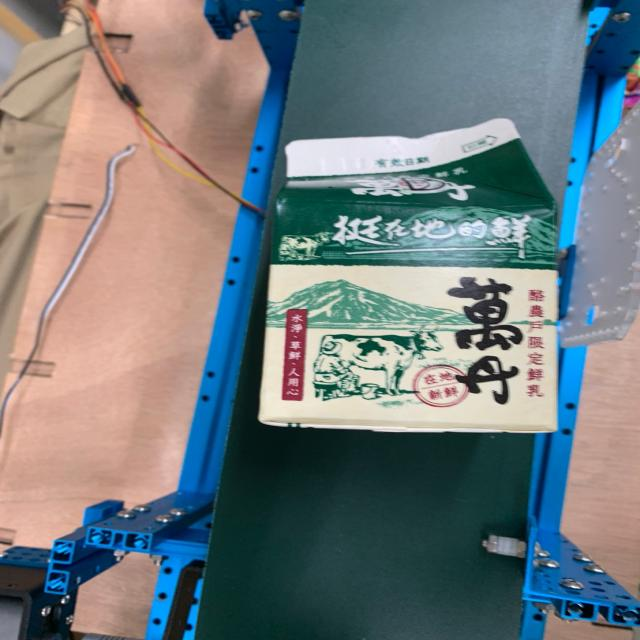non_white_jug: (171, 110, 582, 444)
